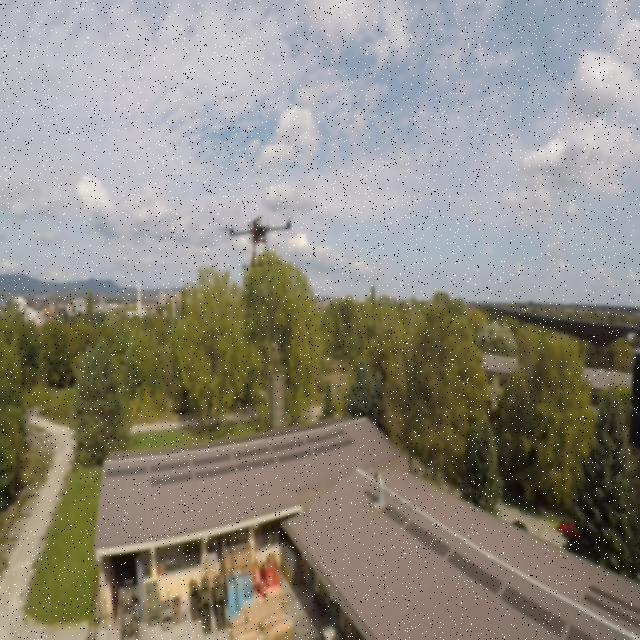UAV: (215, 208, 295, 270)
